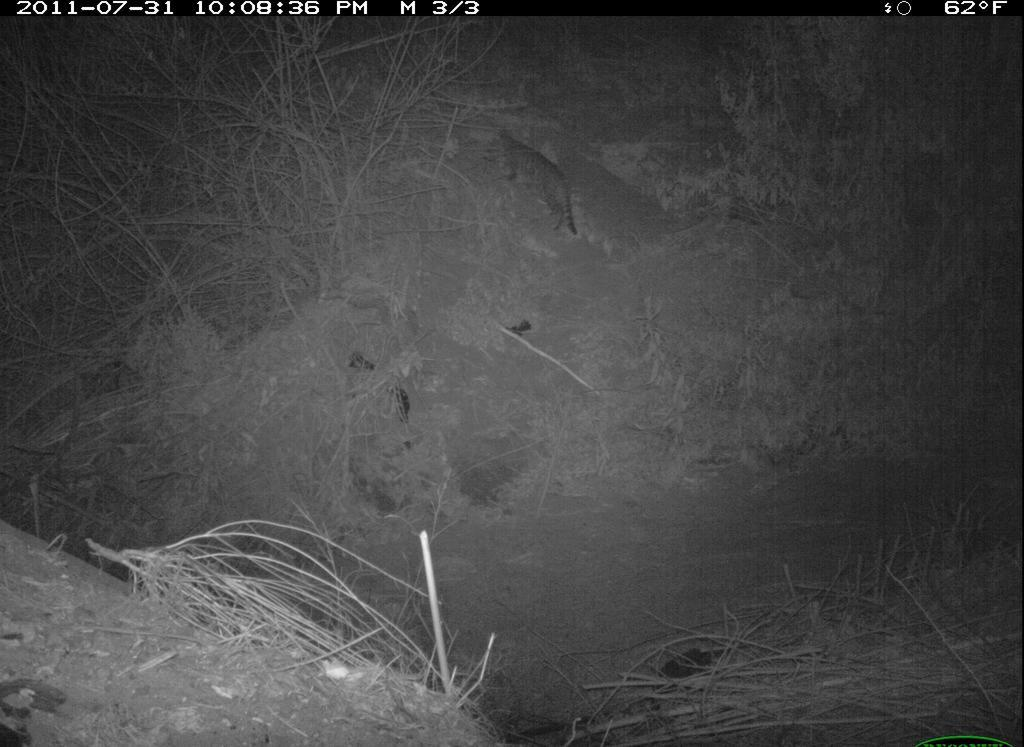cat: (482, 121, 593, 248)
